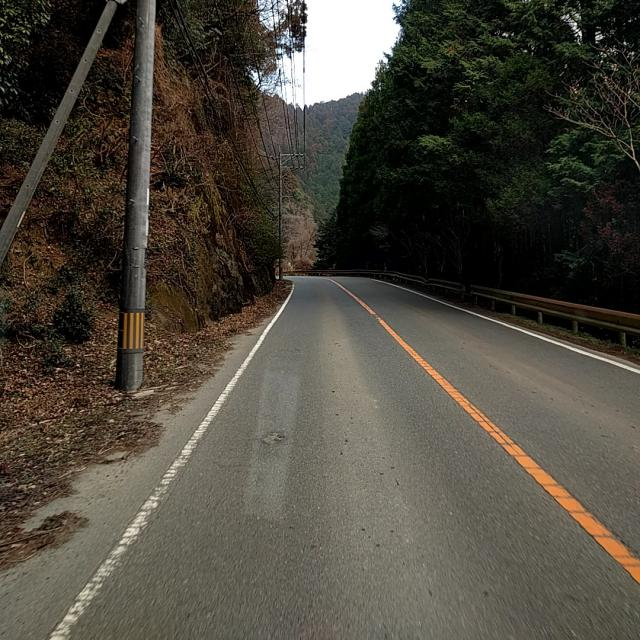pothole: (82, 466, 178, 602)
